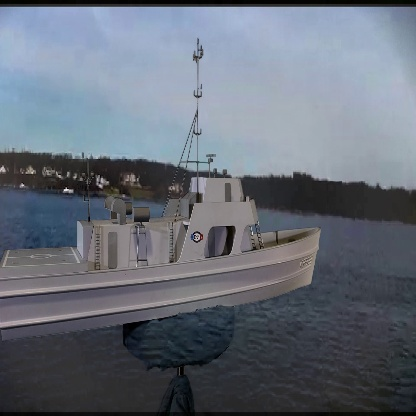YP689: (0, 37, 322, 345)
